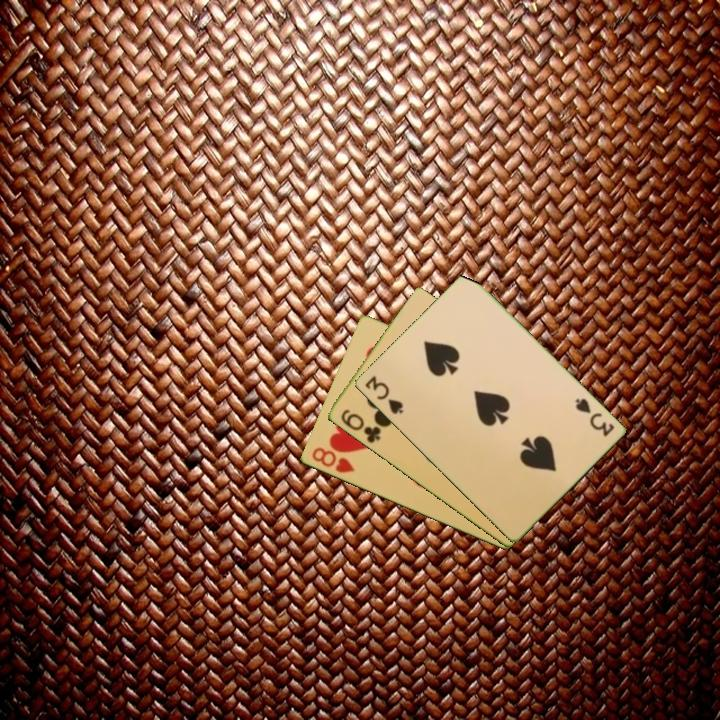3s: (571, 394, 617, 440), (361, 372, 406, 417)
6c: (337, 405, 384, 446)
8h: (308, 444, 357, 476)
